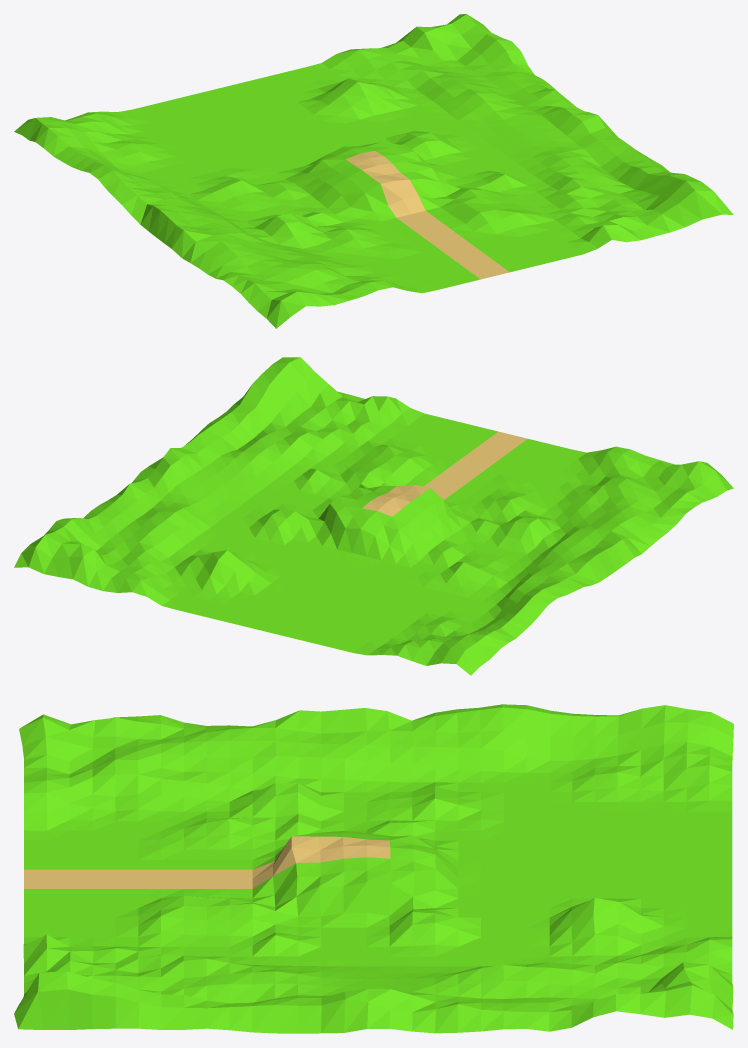
File: Map_Plane.fbx
3 views of the same model, one above another, from view 1: azimuth 30°, elevation 25°; view 2: azimuth 150°, elevation 25°; view 3: azimuth 270°, elevation 25° (orthographic). The views are drawn at different scales.
Parts seen in each view (by area): view 1: Plane; view 2: Plane; view 3: Plane.
Part boxes in pixels (x1=…): Plane: x1=14, y1=14, x2=733, y2=328; Plane: x1=14, y1=357, x2=733, y2=675; Plane: x1=14, y1=704, x2=733, y2=1033.
Size of the model in its own units: 203 by 13.95 by 203.
